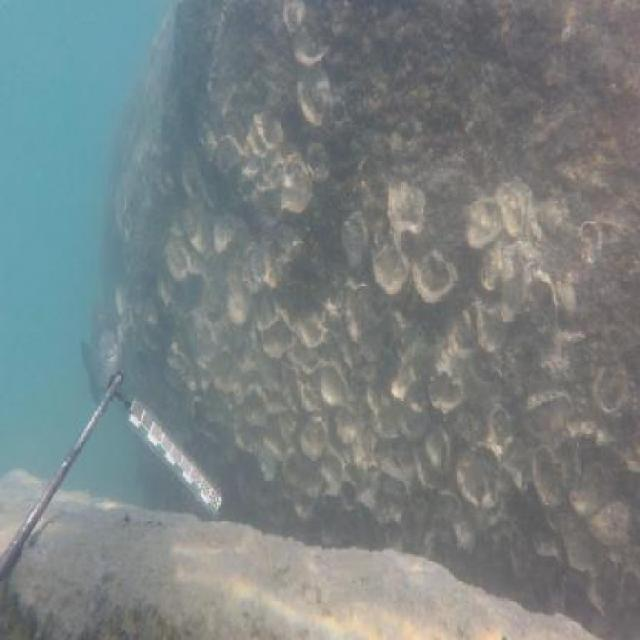acanthopagrus_palmaris: (80, 296, 122, 412)
